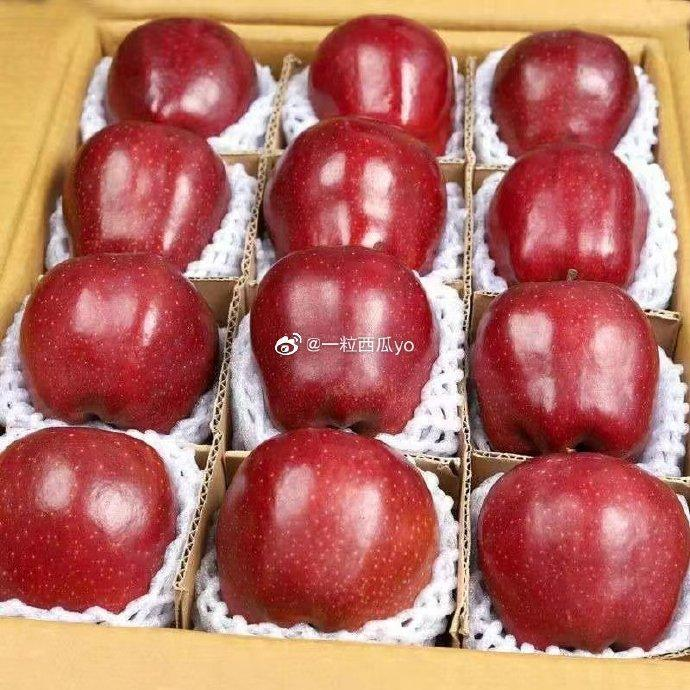apple: (202, 423, 454, 634), (478, 33, 665, 296), (478, 450, 690, 644), (11, 247, 222, 431), (1, 423, 193, 619), (248, 251, 438, 440), (478, 297, 670, 475), (260, 114, 446, 270), (56, 123, 237, 281), (483, 142, 643, 293), (480, 27, 642, 164), (102, 16, 259, 135)
